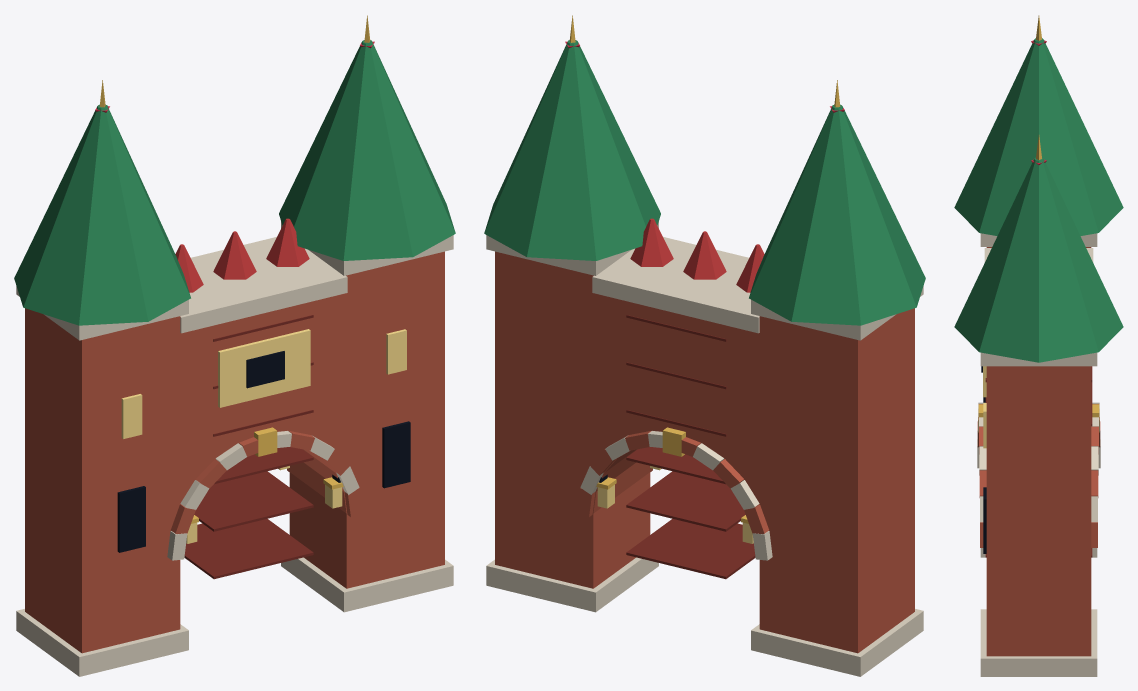
File: bld_resurrection_gate.glb
3 renders of one model, left to right at view 1: azimuth 30°, elevation 25°; view 2: azimuth 150°, elevation 25°; view 3: azimuth 270°, elevation 25°, orthographic. The views are drawn at different scales.
Parts seen in each view (by area): view 1: bld_resurrection_gate; view 2: bld_resurrection_gate; view 3: bld_resurrection_gate.
Part boxes in pixels (x1,y1,x2,y2): bld_resurrection_gate: [14, 15, 455, 676]; bld_resurrection_gate: [484, 15, 925, 676]; bld_resurrection_gate: [954, 15, 1123, 676].
Size of the model in its own units: 11.2 by 14.2 by 4.2.
Materials: 1 (1 with a texture image).
